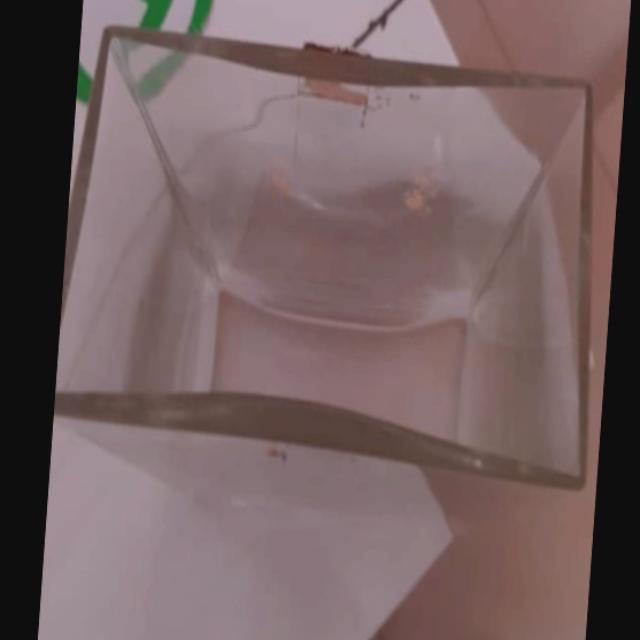TLC Tank: (50, 10, 628, 524)
